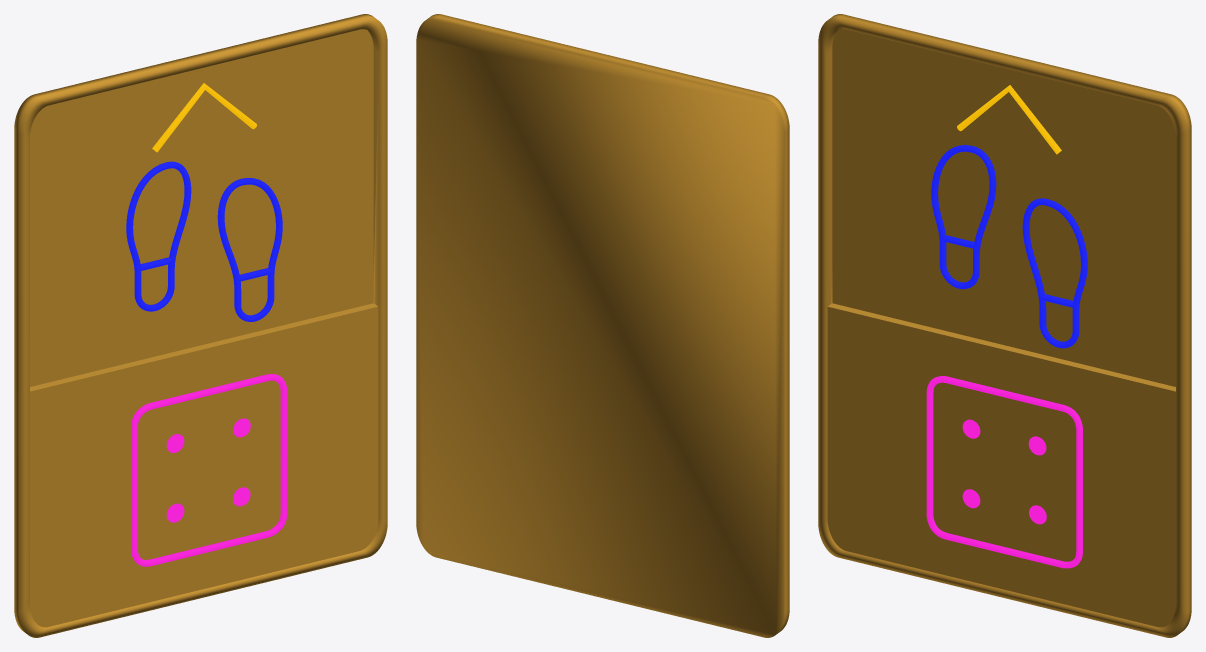
The model's file is CardMoveTop.glb.
3 renders of one model, left to right at view 1: azimuth 30°, elevation 25°; view 2: azimuth 150°, elevation 25°; view 3: azimuth 330°, elevation 25°, orthographic.
Parts seen in each view (by area): view 1: Cube, Curve.008, Curve, Curve.001, Curve.004; view 2: Cube; view 3: Cube, Curve.008, Curve.001, Curve, Curve.004.
Boxes of the visible parts, x1=… form: Cube: x1=14, y1=14, x2=387, y2=637; Curve.008: x1=131, y1=374, x2=287, y2=566; Curve: x1=126, y1=161, x2=191, y2=311; Curve.001: x1=217, y1=178, x2=282, y2=321; Curve.004: x1=152, y1=83, x2=256, y2=152; Cube: x1=416, y1=14, x2=789, y2=637; Cube: x1=818, y1=14, x2=1191, y2=637; Curve.008: x1=926, y1=376, x2=1082, y2=568; Curve.001: x1=1022, y1=198, x2=1087, y2=348; Curve: x1=931, y1=145, x2=996, y2=289; Curve.004: x1=957, y1=85, x2=1061, y2=154.
Size of the model in its own units: 5 by 7 by 0.2.
